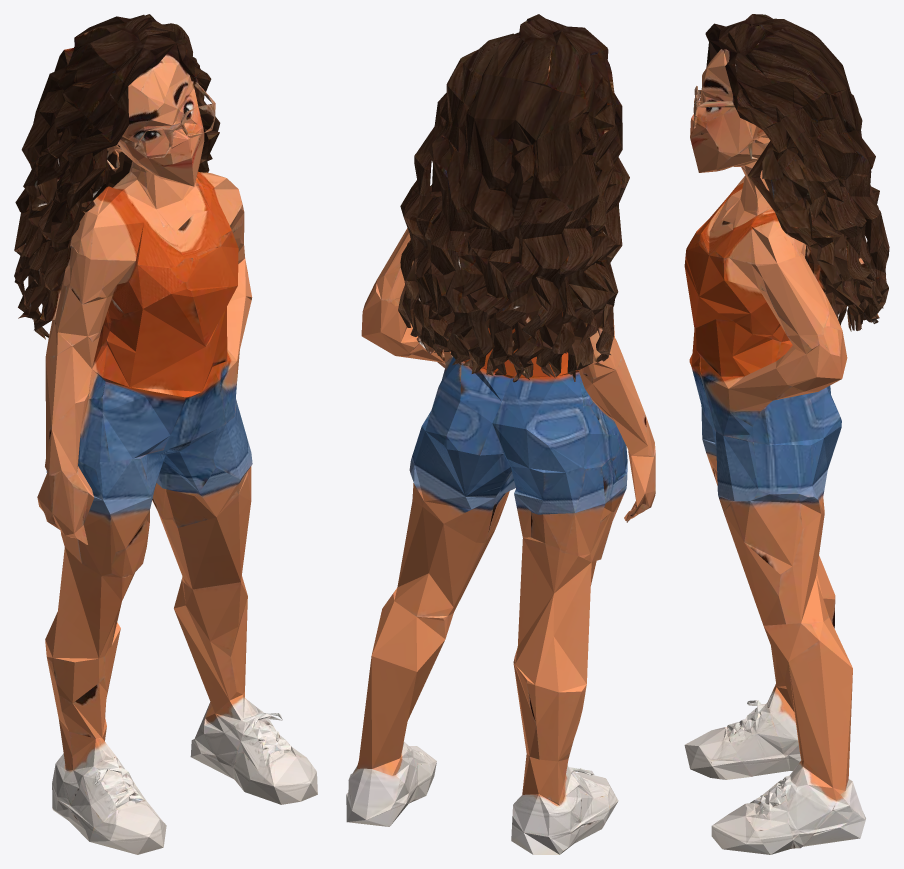
Rendered from laranja.glb.
3 renders of one model, left to right at view 1: azimuth 30°, elevation 25°; view 2: azimuth 150°, elevation 25°; view 3: azimuth 270°, elevation 25°, orthographic. The views are drawn at different scales.
Bounding box in the file's own units: 0.6821 × 1.9 × 0.4642.
1 material, 1 textured.
